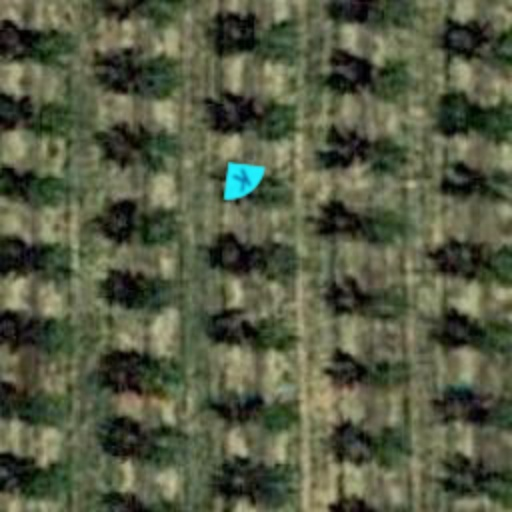quarter_circle: (206, 144, 278, 216)
